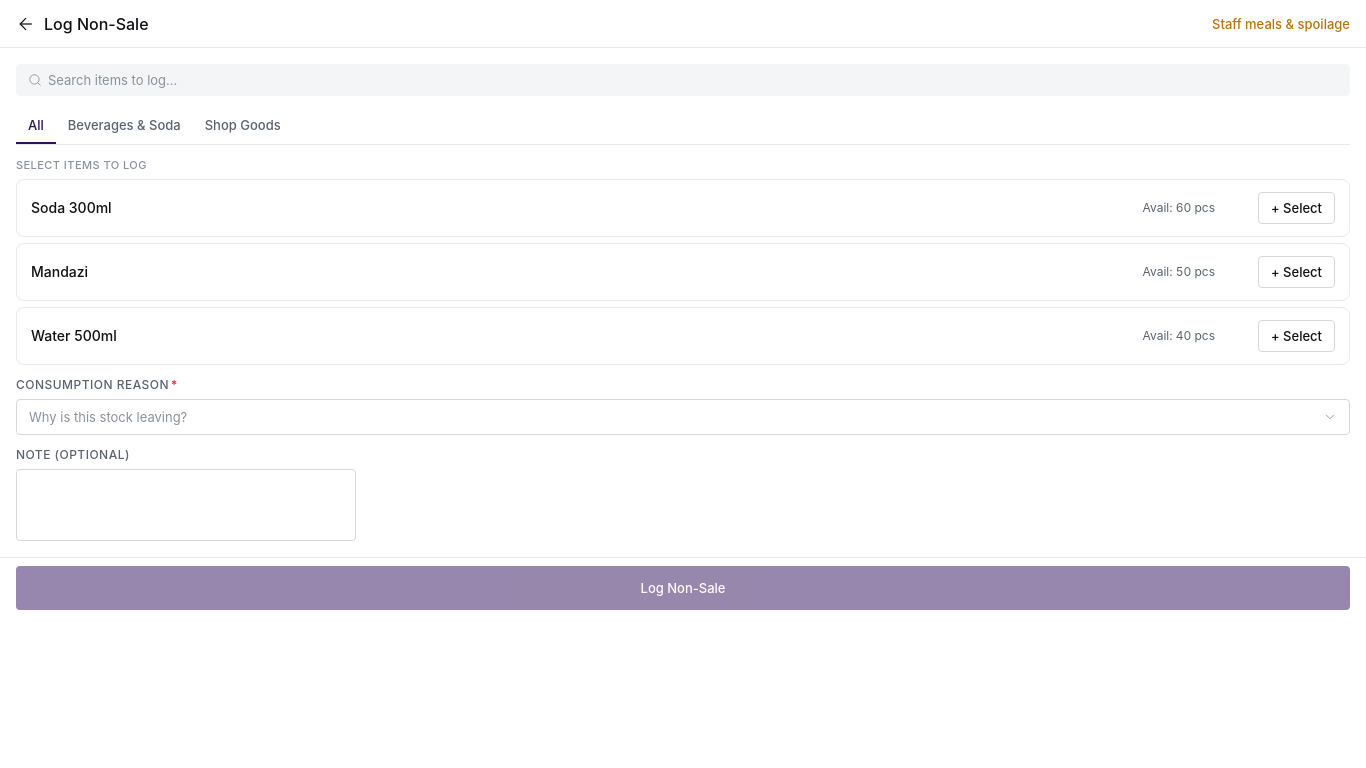
Scenario: Canteen — Log Non-Sale (waste) flow › submit is blocked until a reason is picked
This screenshot has width=1366, height=768.
Click the button "+ Select" next to "Avail: 50 pcs": [1296, 272] box left=1258, top=256, right=1335, bottom=288
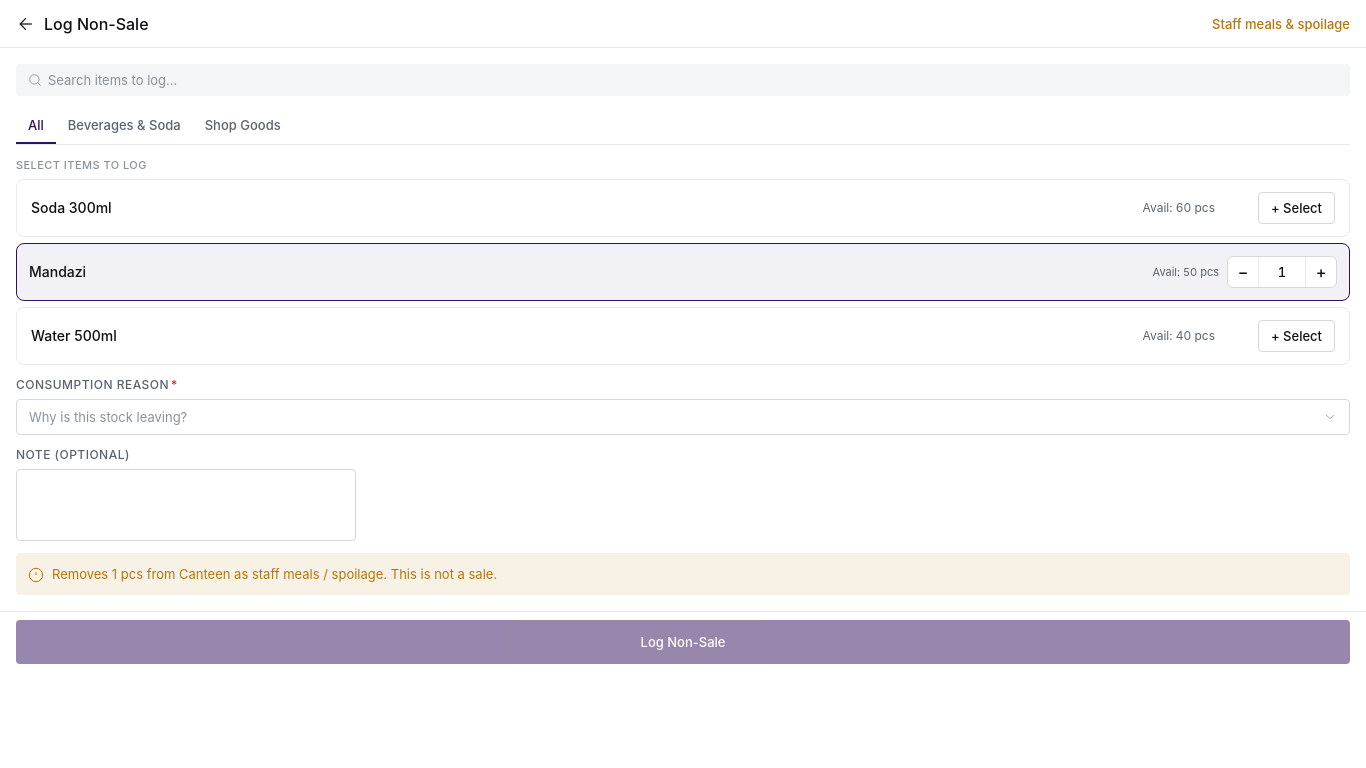
Replace the text in the number field with "5": [1282, 272] box left=1274, top=264, right=1290, bottom=280
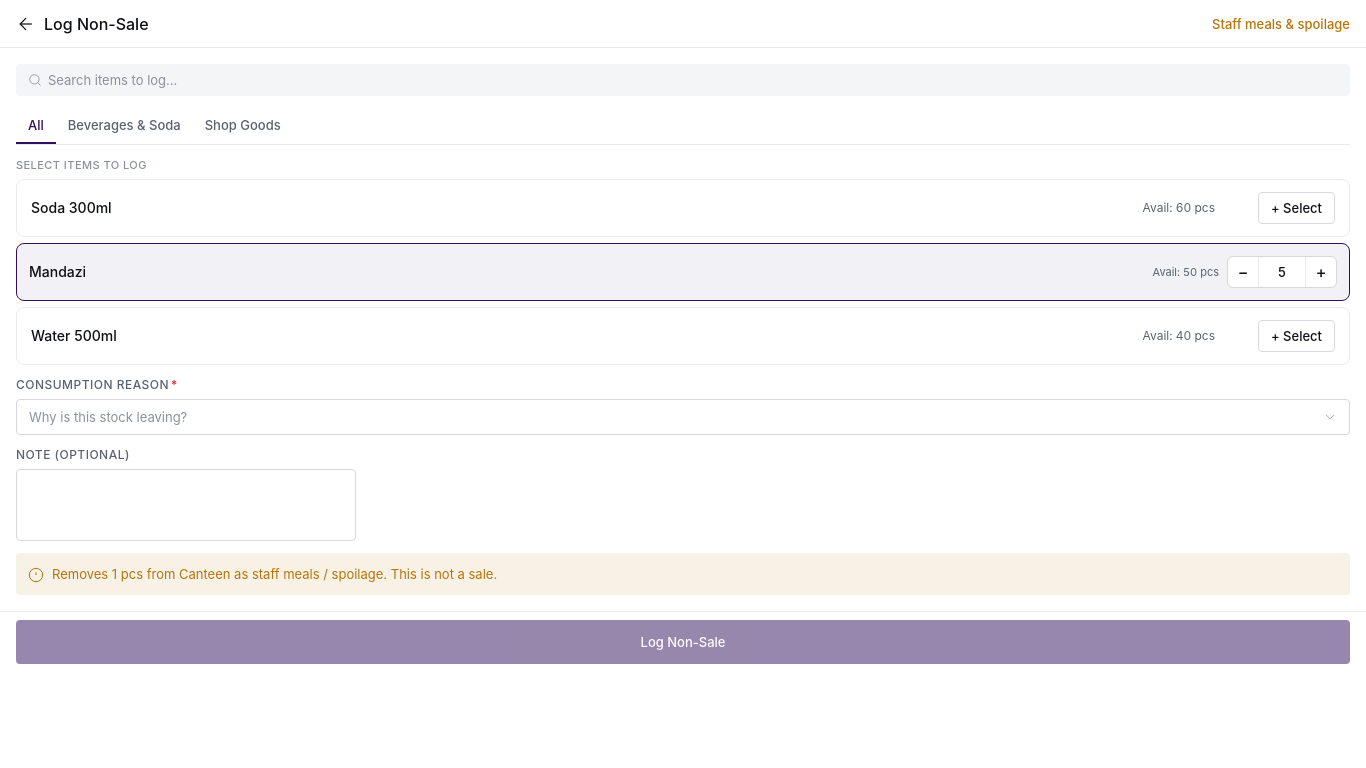
Press Tab
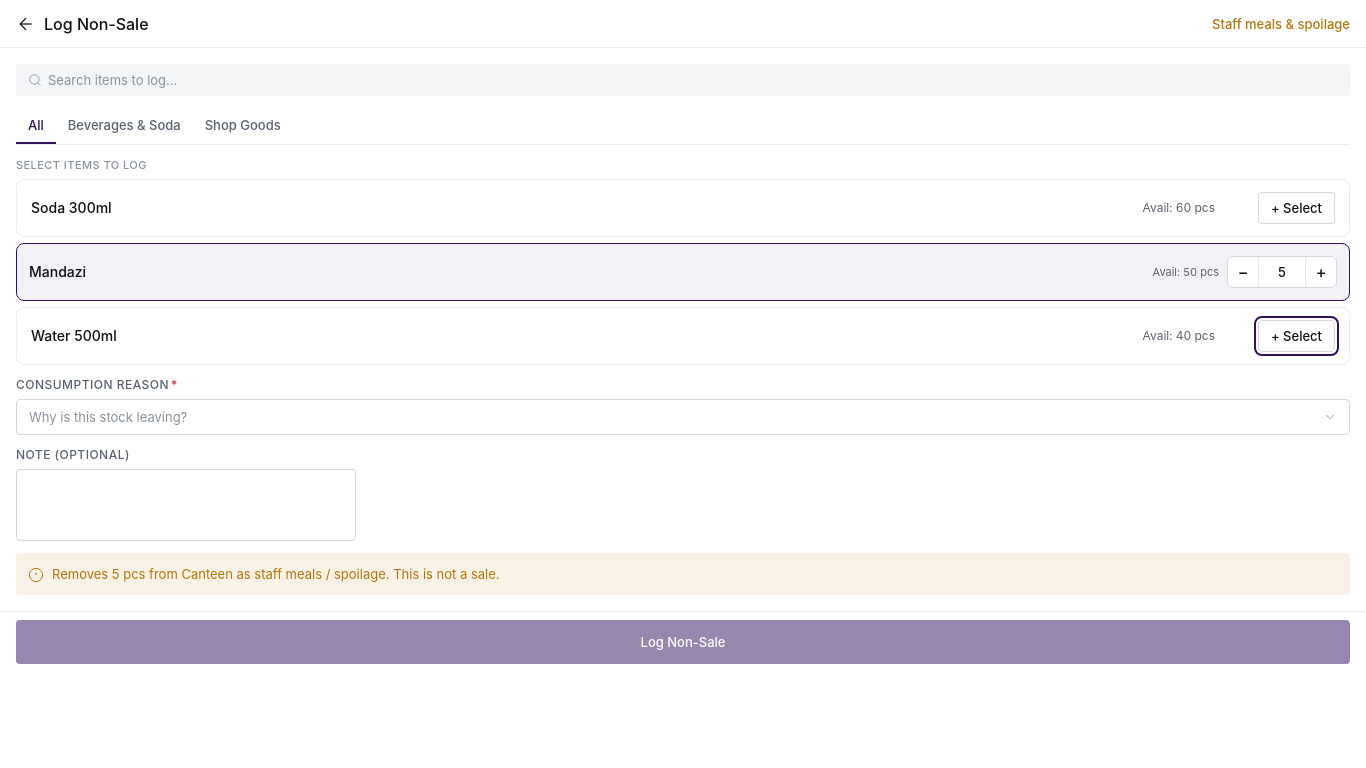
Expected: the button "Log Non-Sale" is disabled, left=16, top=620, right=1350, bottom=664
Click the dropdown named "Consumption reason": [108, 417] box left=16, top=399, right=1350, bottom=435
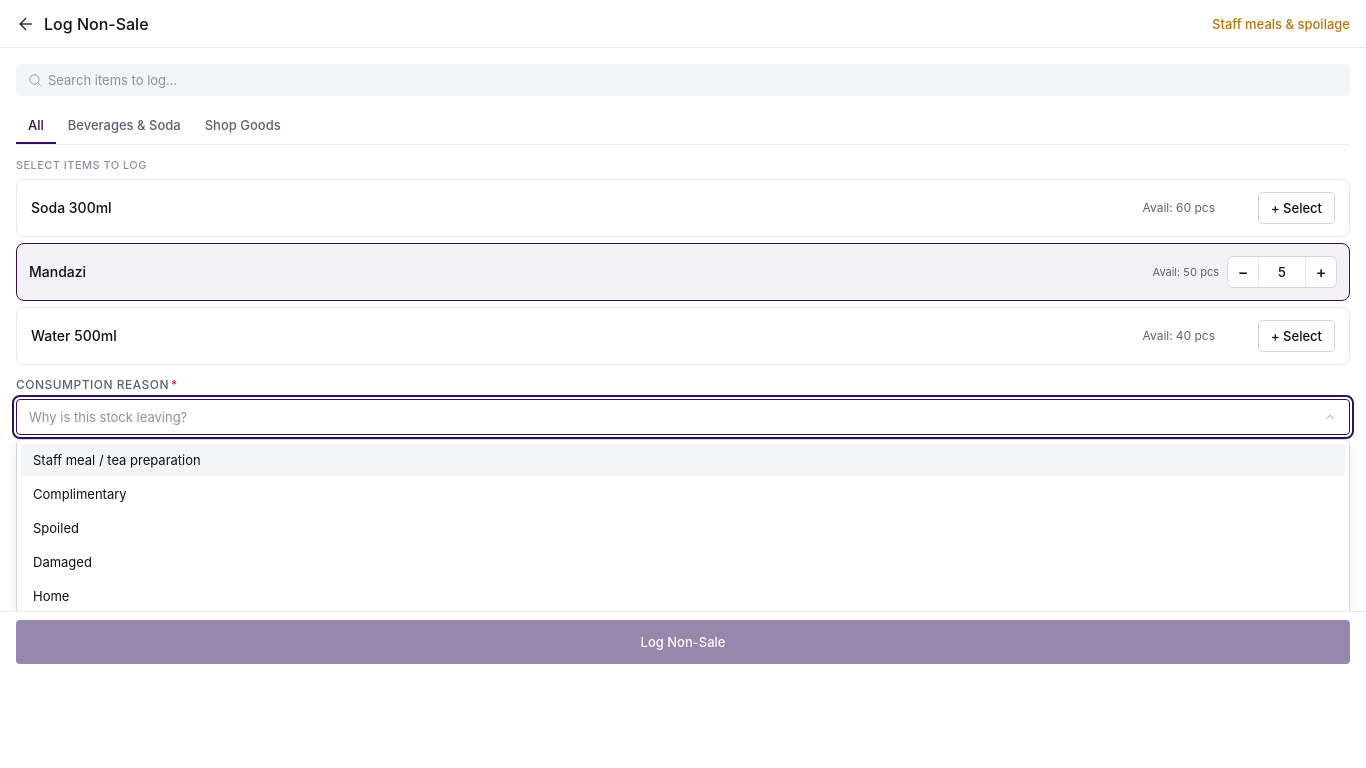
Click the option "Spoiled": [56, 528] box left=33, top=520, right=79, bottom=536
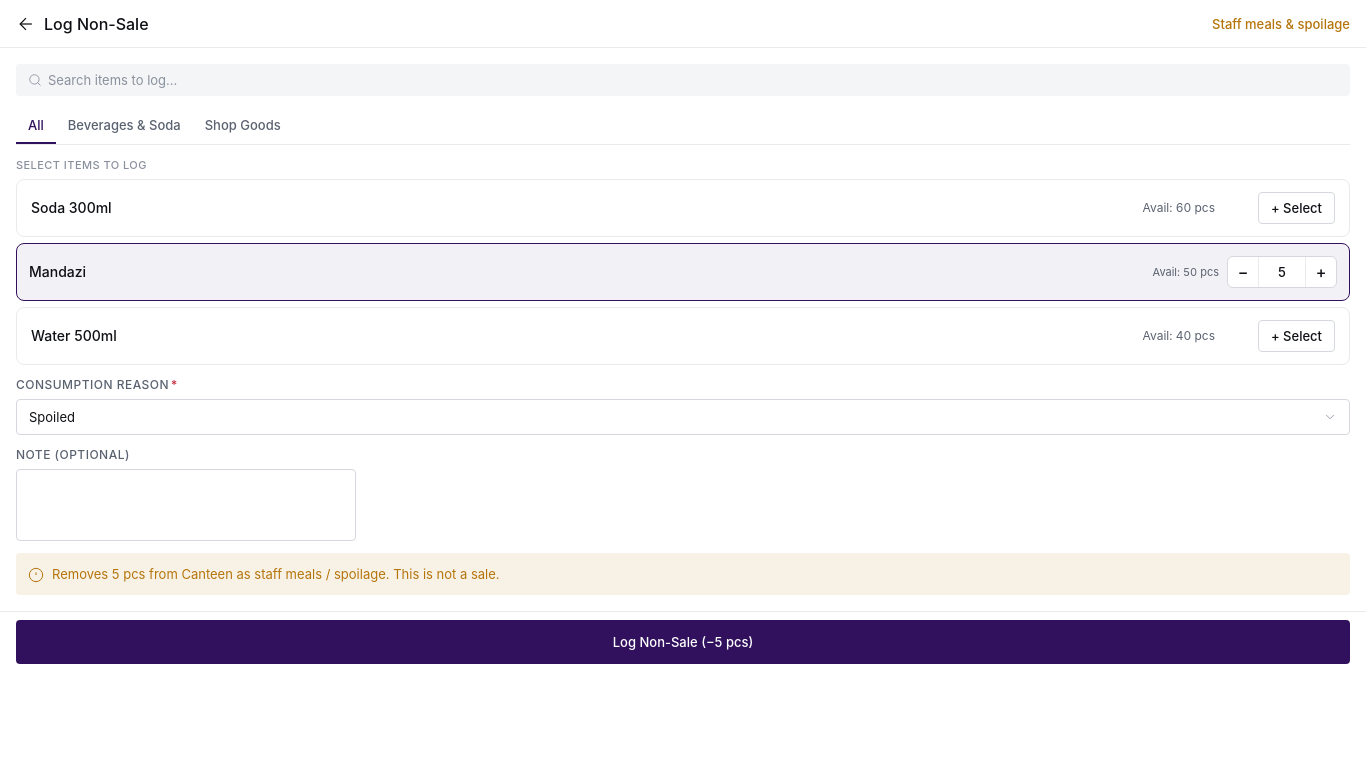
Expected: the button "Log Non-Sale (−5 pcs)" is enabled, left=16, top=620, right=1350, bottom=664
